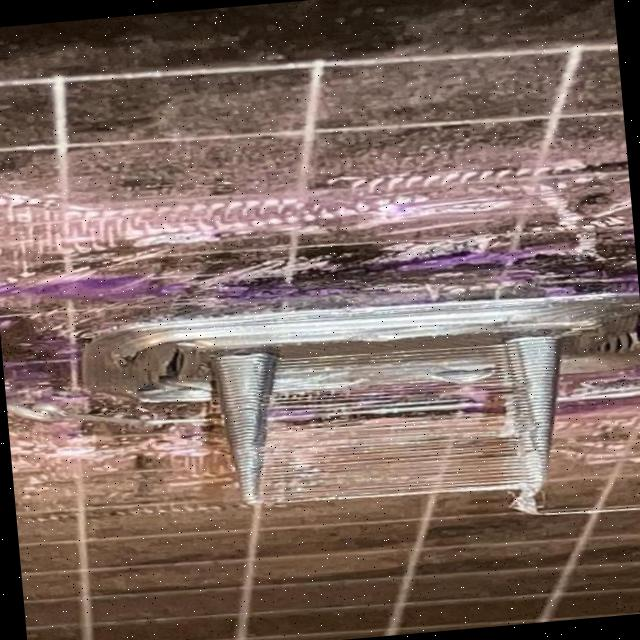stringing: (243, 328, 536, 514)
